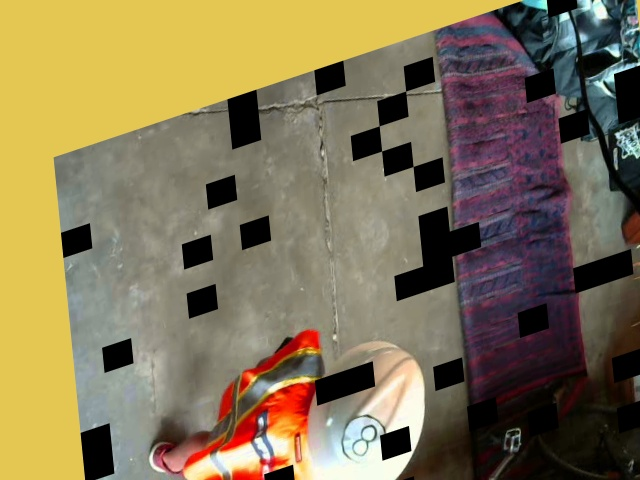eight: (339, 405, 390, 474)
